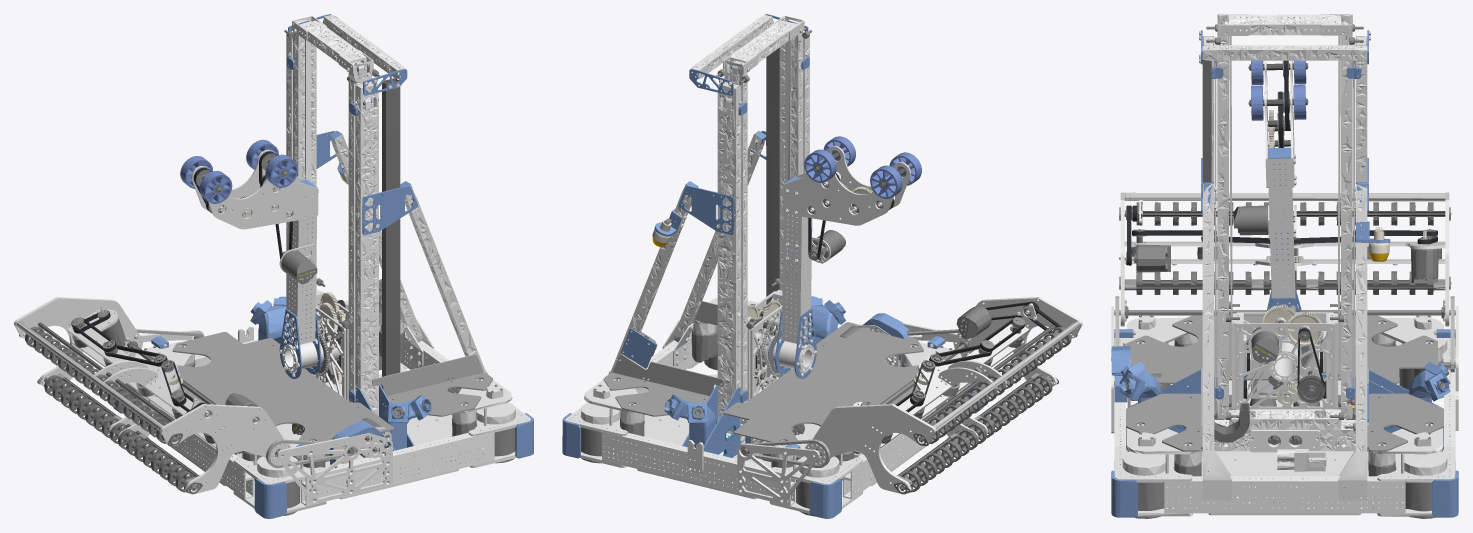
Rendered from subzero-1778.glb.
The picture shows the model from 3 angles, left to right: view 1: azimuth 30°, elevation 25°; view 2: azimuth 150°, elevation 25°; view 3: azimuth 270°, elevation 25°; orthographic projection. The views are drawn at different scales.
Parts seen in each view (by area): view 1: frame, intake, arm, elevator-stage, effector, carriage; view 2: frame, intake, arm, elevator-stage, effector, carriage; view 3: frame, intake, elevator-stage, carriage, arm, effector.
Boxes of the visible parts, x1,y1,x2,y2 form: frame: (113, 14, 533, 518); intake: (14, 297, 310, 494); arm: (180, 139, 328, 378); elevator-stage: (292, 16, 373, 403); effector: (191, 149, 318, 229); carriage: (282, 278, 349, 400); frame: (562, 14, 983, 518); intake: (785, 297, 1082, 494); arm: (768, 136, 921, 378); elevator-stage: (723, 16, 804, 425); effector: (782, 146, 910, 225); carriage: (746, 278, 814, 400); frame: (1111, 21, 1458, 518); intake: (1114, 192, 1455, 337); elevator-stage: (1214, 14, 1355, 430); carriage: (1226, 301, 1343, 419); arm: (1233, 60, 1310, 366); effector: (1250, 60, 1307, 187).
Size of the model in its own units: 1.03 by 1.04 by 0.7493.
